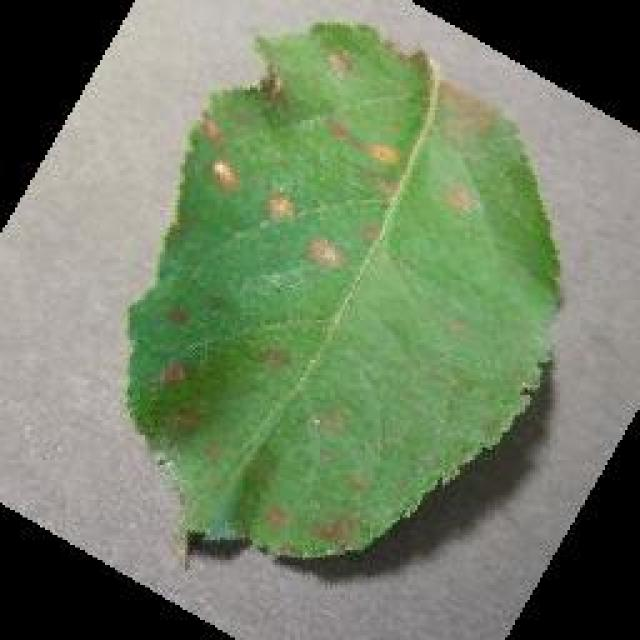apple rust disease: (120, 17, 562, 565)
